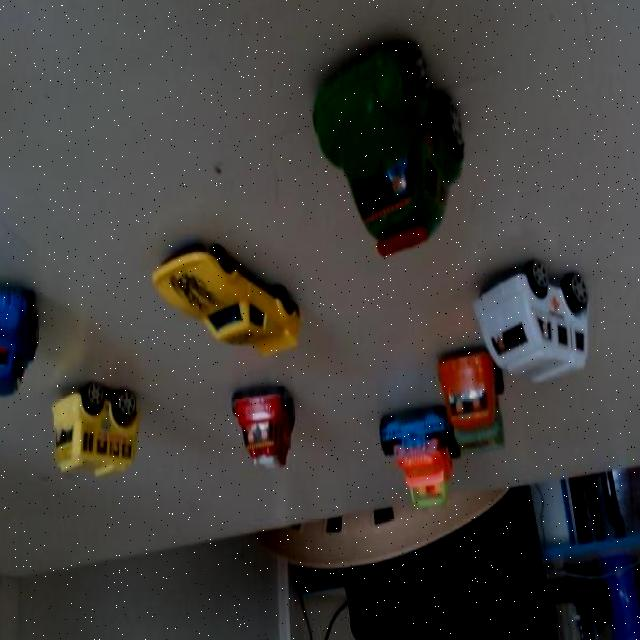car: (305, 42, 482, 256), (462, 237, 599, 406), (156, 234, 302, 368), (52, 369, 149, 480), (370, 410, 454, 518), (230, 369, 308, 480), (437, 346, 506, 466), (0, 275, 37, 402)
